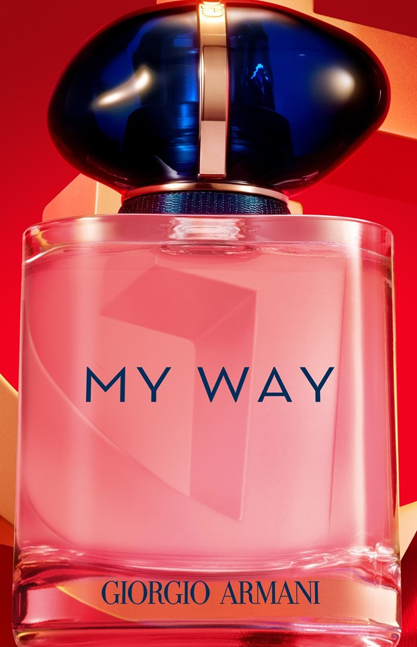armani_my_way_floral: (17, 1, 405, 645)
